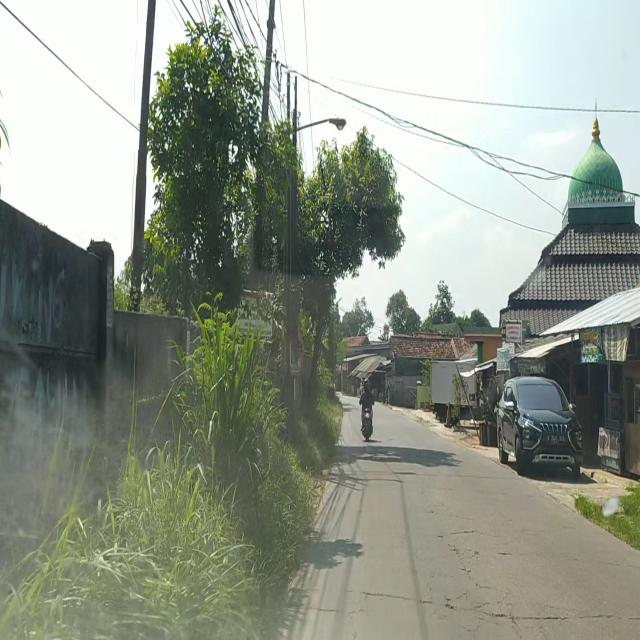Drain Hole: (436, 525, 516, 639)
Sewer Cover: (359, 588, 640, 626)
